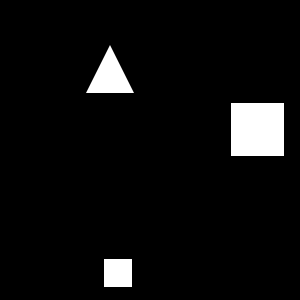circle: (231, 103, 284, 156), (104, 259, 132, 287)
triangle: (86, 45, 134, 93)
